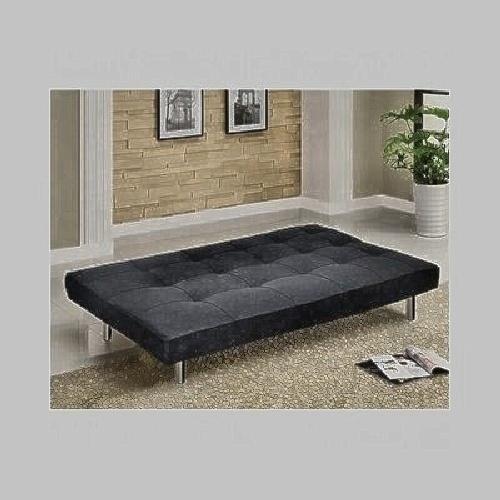sofa: (70, 221, 439, 363)
